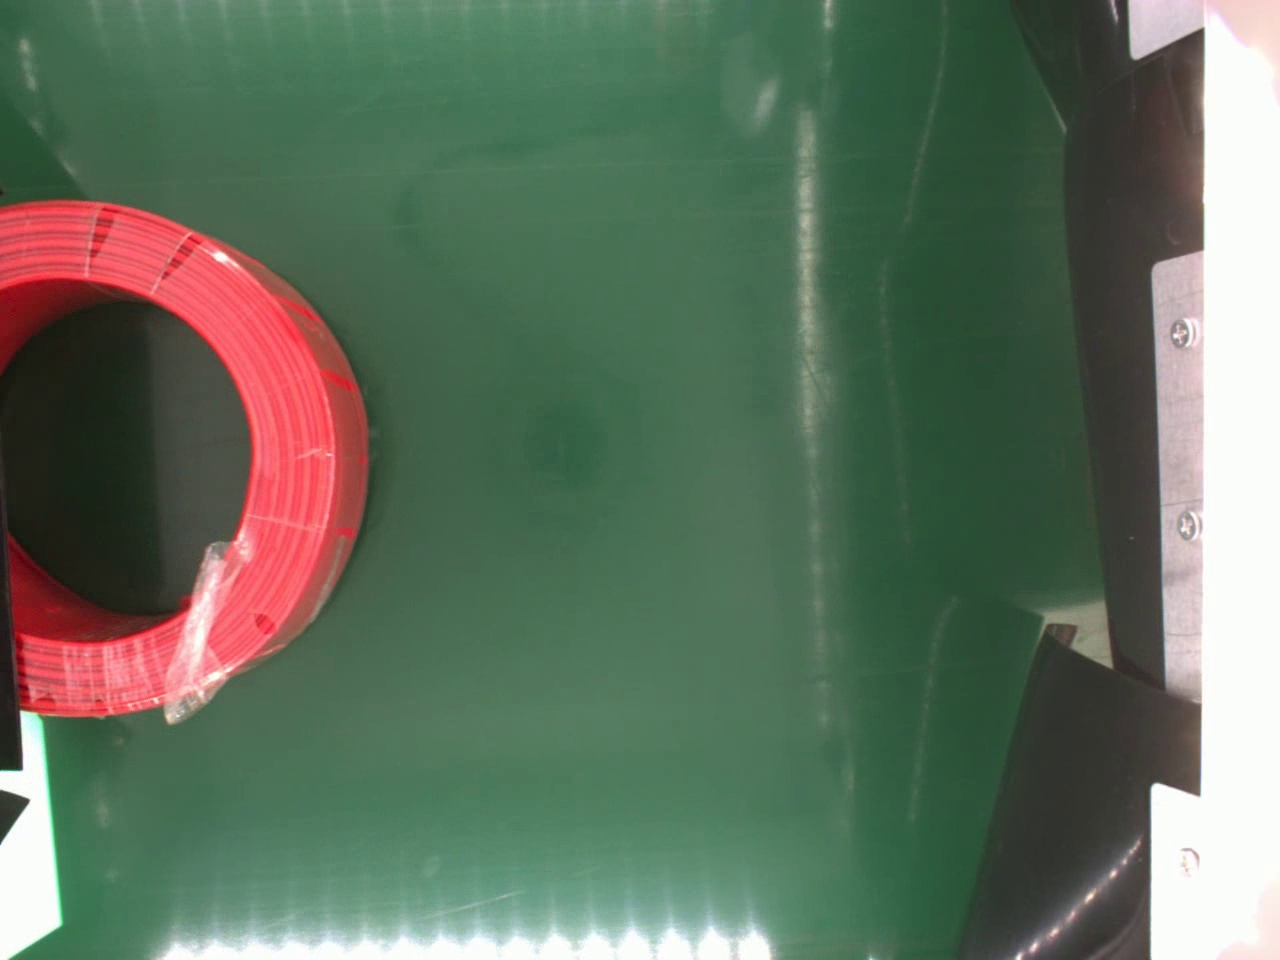red: (0, 197, 368, 722)
